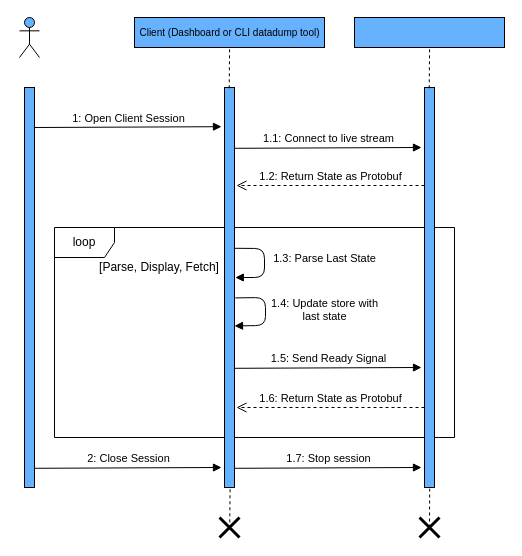
Image size: 522x556. Some labels were removed from this diagram. The shapes that lost their labels are listed below. From the top down, each one's box as (x1, y1, x2, y2) in pixels, then its label:
(18, 16, 40, 58): User
(354, 16, 504, 48): libp2p node Introspection server
